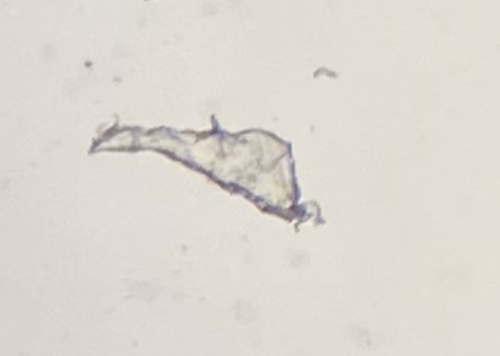microplastic: (89, 113, 327, 234)
